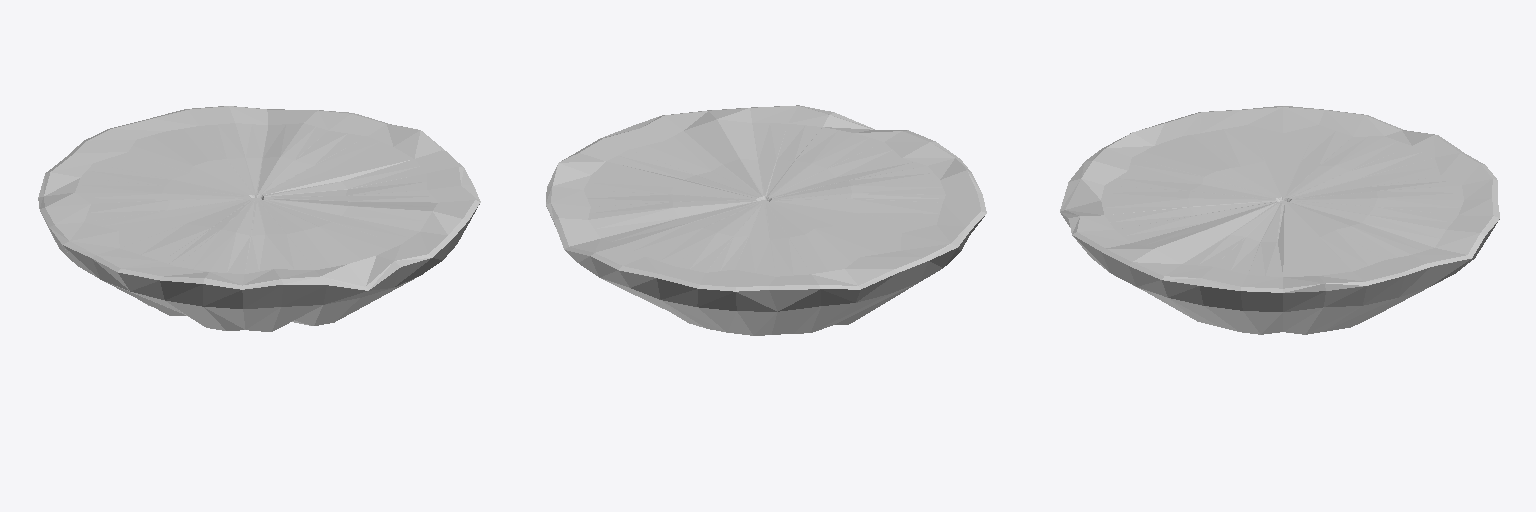
File: island2.obj
The picture shows the model from 3 angles: view 1: azimuth 30°, elevation 25°; view 2: azimuth 150°, elevation 25°; view 3: azimuth 270°, elevation 25°; orthographic projection.
Visible parts, largest first — view 1: Circle; view 2: Circle; view 3: Circle.
Boxes of the visible parts, x1=… form: Circle: x1=38, y1=106, x2=480, y2=331; Circle: x1=546, y1=105, x2=986, y2=335; Circle: x1=1060, y1=106, x2=1499, y2=334.
Size of the model in its own units: 99.75 by 31.73 by 99.12.